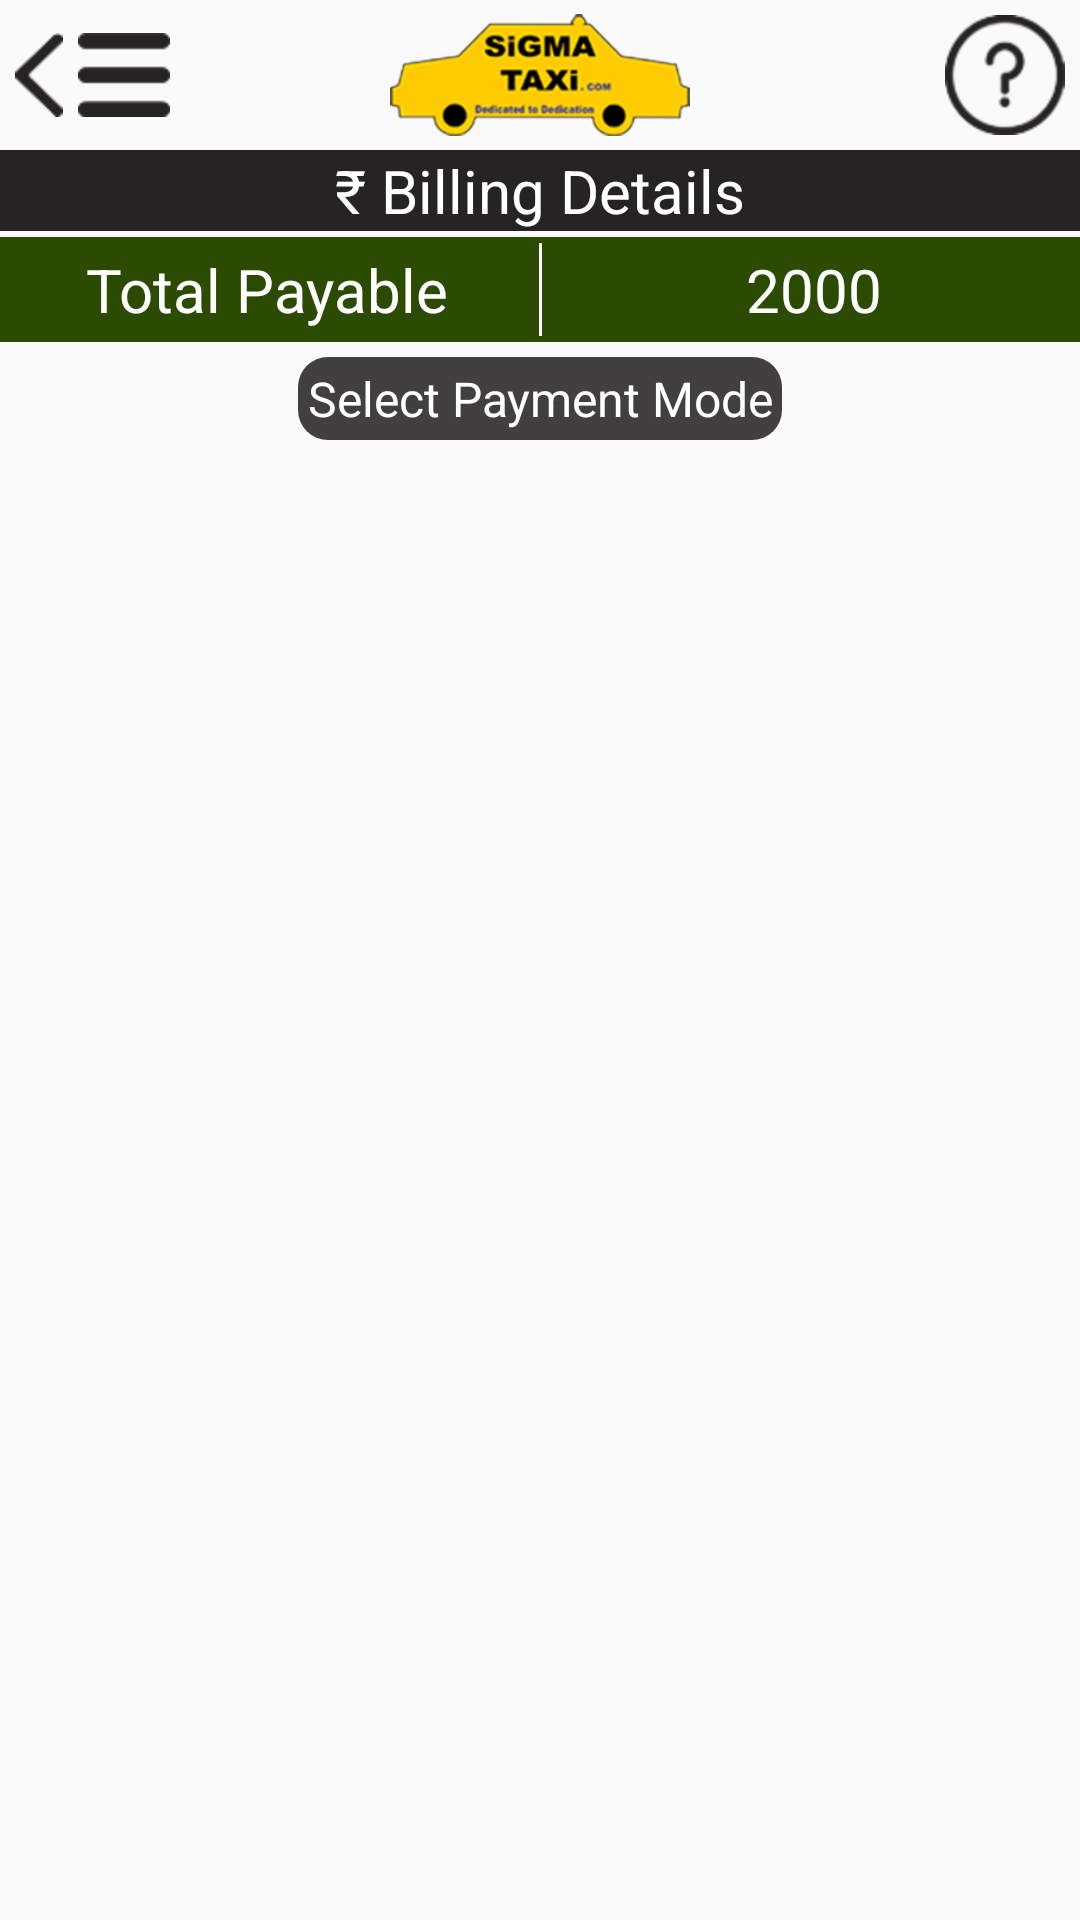

Icons on this 1080w x 1920h Android screen, each with the point to tap as point (x, y):
back: point (39, 75)
help: point (1005, 75)
menu: point (124, 75)
